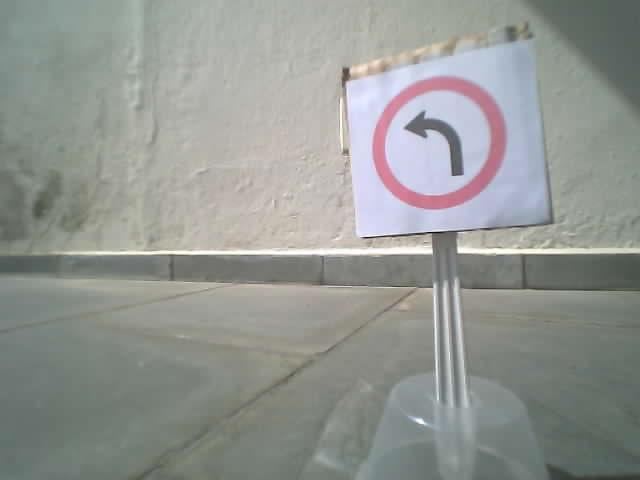R-25a_esquerda: (370, 74, 506, 210)
